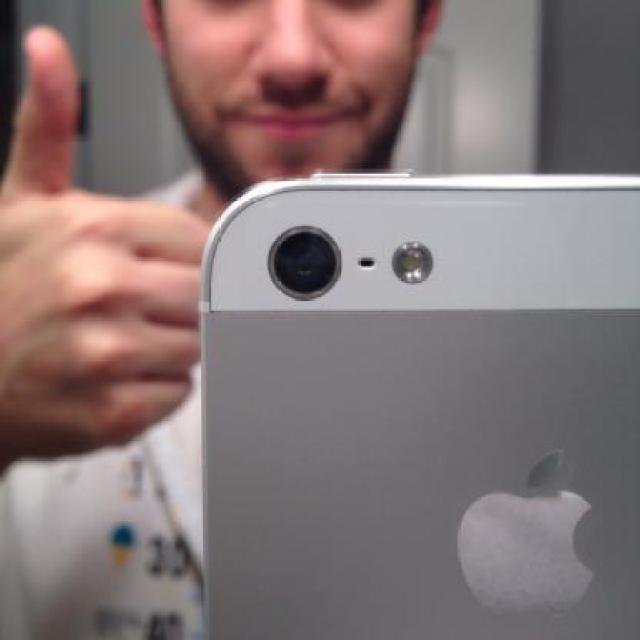phone: (183, 167, 640, 639)
